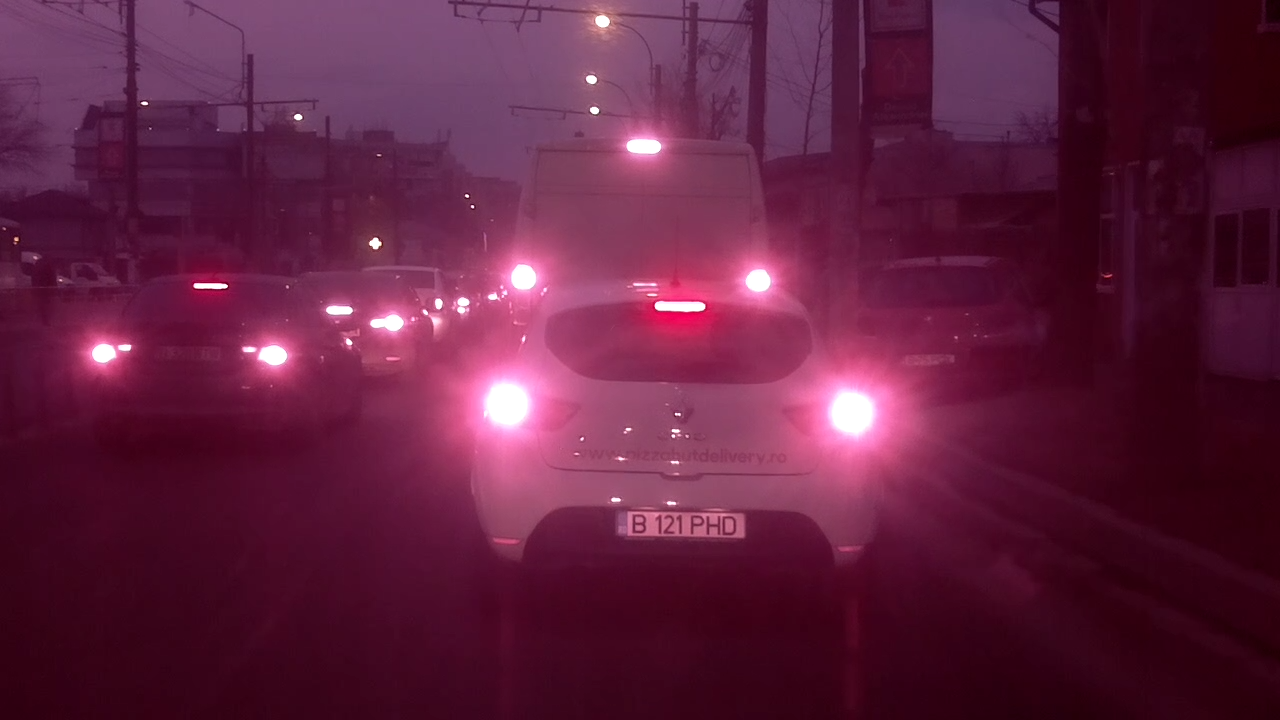license-plate: (612, 506, 752, 542)
